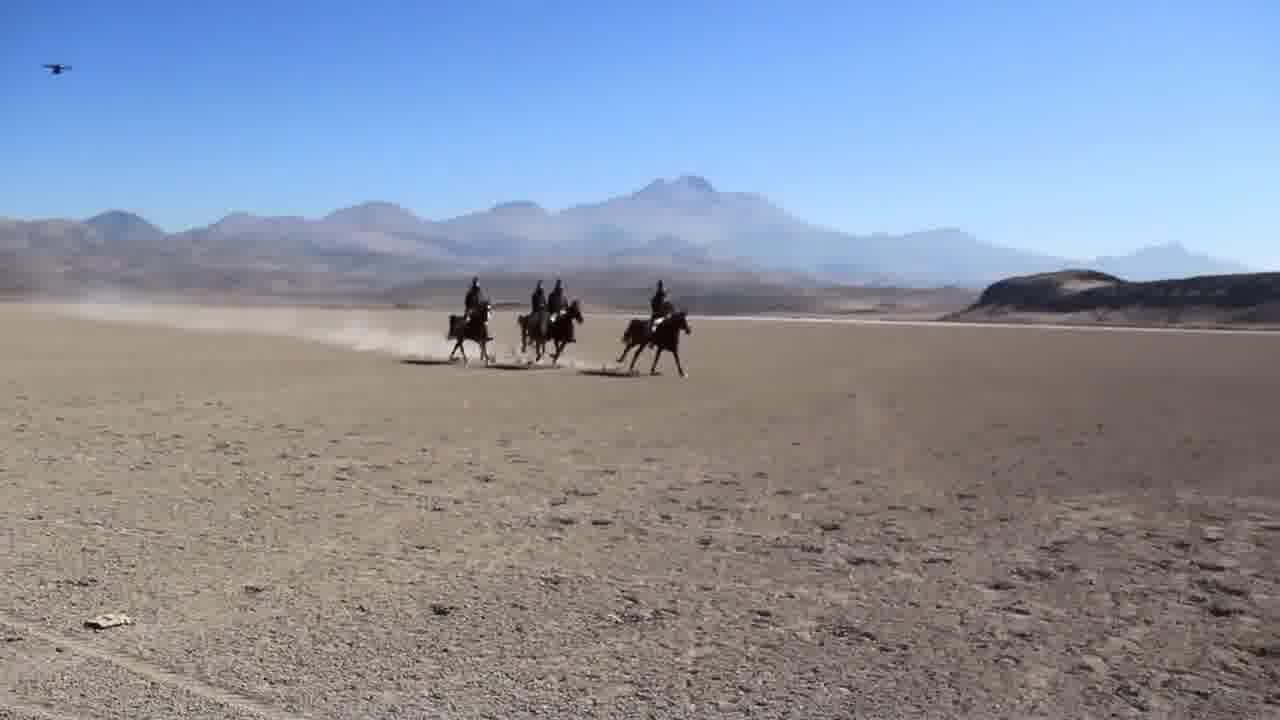drone: (35, 49, 79, 94)
